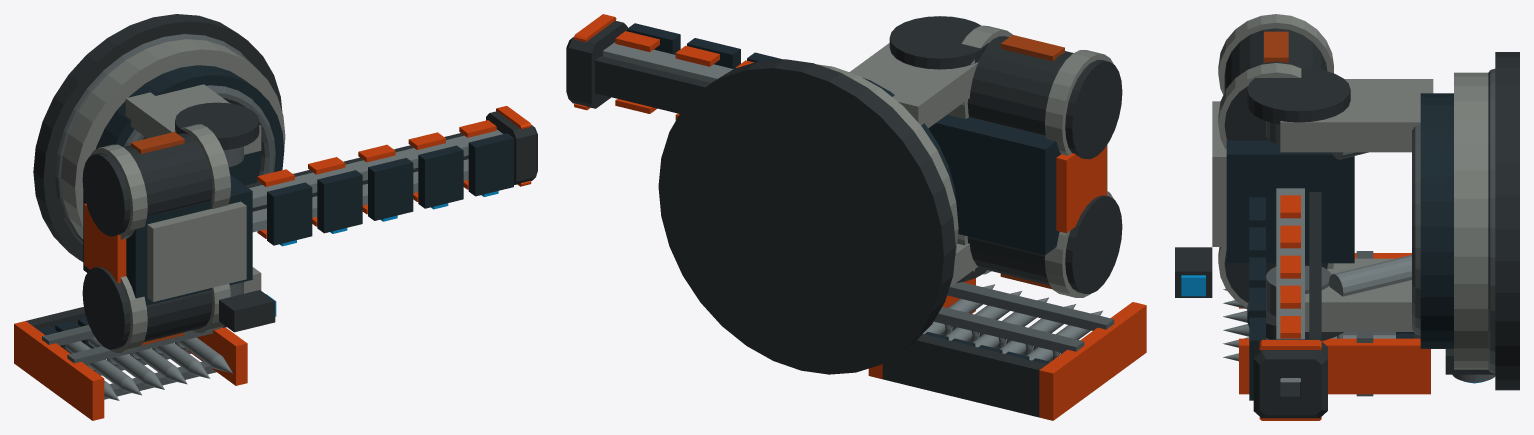
File: harpoon_cannon_railgun_c_blockout_v4.obj
The picture shows the model from 3 angles, left to right: view 1: azimuth 30°, elevation 25°; view 2: azimuth 150°, elevation 25°; view 3: azimuth 270°, elevation 25°; orthographic projection. The views are drawn at different scales.
Visible parts, largest first — view 1: HC_RG_STATIC_DeckFlange, HC_RG_STATIC_LowerHousing, HC_RG_PITCH_BreechTopPanel, HC_RG_PITCH_CapacitorPod_Right, HC_RG_PITCH_CapacitorPod_Left, HC_RG_YAW_Turntable, HC_RG_YAW_AmmoBasketRearGuard, HC_RG_PITCH_BreechHousing, HC_RG_YAW_ElevationFork_Right, HC_RG_YAW_ElevationGear_Right, HC_RG_PITCH_CoilModuleTop_02, HC_RG_PITCH_CoilModuleTop_04 (+26 smaller); view 2: HC_RG_STATIC_DeckFlange, HC_RG_PITCH_BreechHousing, HC_RG_PITCH_CapacitorPod_Right, HC_RG_YAW_AmmoBasketBottom, HC_RG_PITCH_CapacitorPod_Left, HC_RG_YAW_AmmoBasketRearGuard, HC_RG_YAW_ElevationFork_Right, HC_RG_YAW_ElevationGear_Right, HC_RG_PITCH_ChannelFloor, HC_RG_PITCH_BreechRearLatch, HC_RG_YAW_AmmoBasketRearRailHigh, HC_RG_PITCH_MuzzleShroud (+18 smaller); view 3: HC_RG_PITCH_BreechHousing, HC_RG_STATIC_LowerHousing, HC_RG_YAW_Turntable, HC_RG_STATIC_DeckFlange, HC_RG_YAW_ElevationFork_Right, HC_RG_YAW_AmmoBasketFrontGuard, HC_RG_PITCH_MuzzleShroud, HC_RG_YAW_ElevationFork_Left, HC_RG_YAW_ElevationGear_Right, HC_RG_PITCH_CapacitorPod_Right, HC_RG_STATIC_BoltRing, HC_RG_PITCH_RailRight (+26 smaller).
Part boxes in pixels (x1,y1,x2,y2): HC_RG_STATIC_DeckFlange: (33, 14, 282, 261); HC_RG_STATIC_LowerHousing: (61, 39, 285, 238); HC_RG_PITCH_BreechTopPanel: (147, 201, 246, 301); HC_RG_PITCH_CapacitorPod_Right: (82, 133, 212, 236); HC_RG_PITCH_CapacitorPod_Left: (82, 267, 212, 349); HC_RG_YAW_Turntable: (95, 65, 284, 185); HC_RG_YAW_AmmoBasketRearGuard: (14, 321, 104, 420); HC_RG_PITCH_BreechHousing: (83, 175, 252, 305); HC_RG_YAW_ElevationFork_Right: (125, 84, 261, 154); HC_RG_YAW_ElevationGear_Right: (175, 102, 259, 149); HC_RG_PITCH_CoilModuleTop_02: (317, 170, 362, 233); HC_RG_PITCH_CoilModuleTop_04: (418, 145, 463, 208); HC_RG_STATIC_DeckFlange: (658, 59, 955, 374); HC_RG_PITCH_BreechHousing: (928, 114, 1107, 254); HC_RG_PITCH_CapacitorPod_Right: (967, 36, 1122, 159); HC_RG_YAW_AmmoBasketBottom: (882, 334, 1046, 417); HC_RG_PITCH_CapacitorPod_Left: (967, 195, 1122, 293); HC_RG_YAW_AmmoBasketRearGuard: (1039, 302, 1146, 420); HC_RG_YAW_ElevationFork_Right: (849, 43, 978, 128); HC_RG_YAW_ElevationGear_Right: (889, 16, 988, 69); HC_RG_PITCH_ChannelFloor: (595, 56, 710, 113); HC_RG_PITCH_BreechRearLatch: (1056, 145, 1106, 233); HC_RG_YAW_AmmoBasketRearRailHigh: (947, 282, 1114, 330); HC_RG_PITCH_MuzzleShroud: (566, 20, 627, 108); HC_RG_PITCH_BreechHousing: (1226, 140, 1354, 263); HC_RG_STATIC_LowerHousing: (1454, 72, 1488, 369); HC_RG_YAW_Turntable: (1420, 93, 1453, 348); HC_RG_STATIC_DeckFlange: (1495, 52, 1519, 390); HC_RG_YAW_ElevationFork_Right: (1280, 79, 1433, 152); HC_RG_YAW_AmmoBasketFrontGuard: (1239, 338, 1430, 394); HC_RG_PITCH_MuzzleShroud: (1253, 339, 1327, 418); HC_RG_YAW_ElevationFork_Left: (1305, 258, 1413, 331); HC_RG_YAW_ElevationGear_Right: (1247, 67, 1350, 124); HC_RG_PITCH_CapacitorPod_Right: (1224, 28, 1327, 140); HC_RG_STATIC_BoltRing: (1488, 68, 1495, 373); HC_RG_PITCH_RailRight: (1276, 188, 1304, 339).
Bounding box in the file's own units: 310 × 184 × 167.
